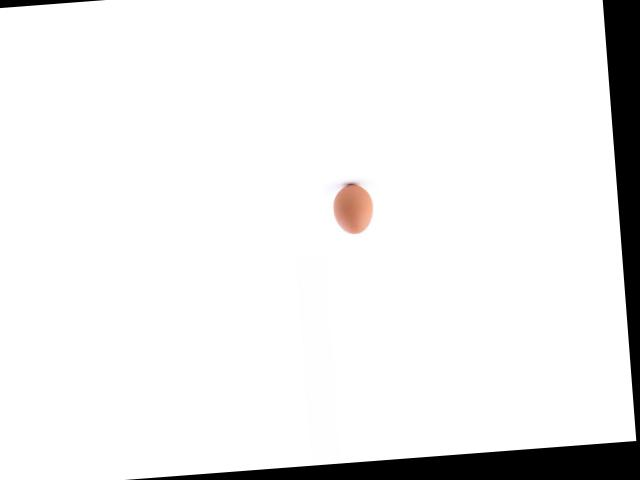egg: (330, 183, 374, 235)
